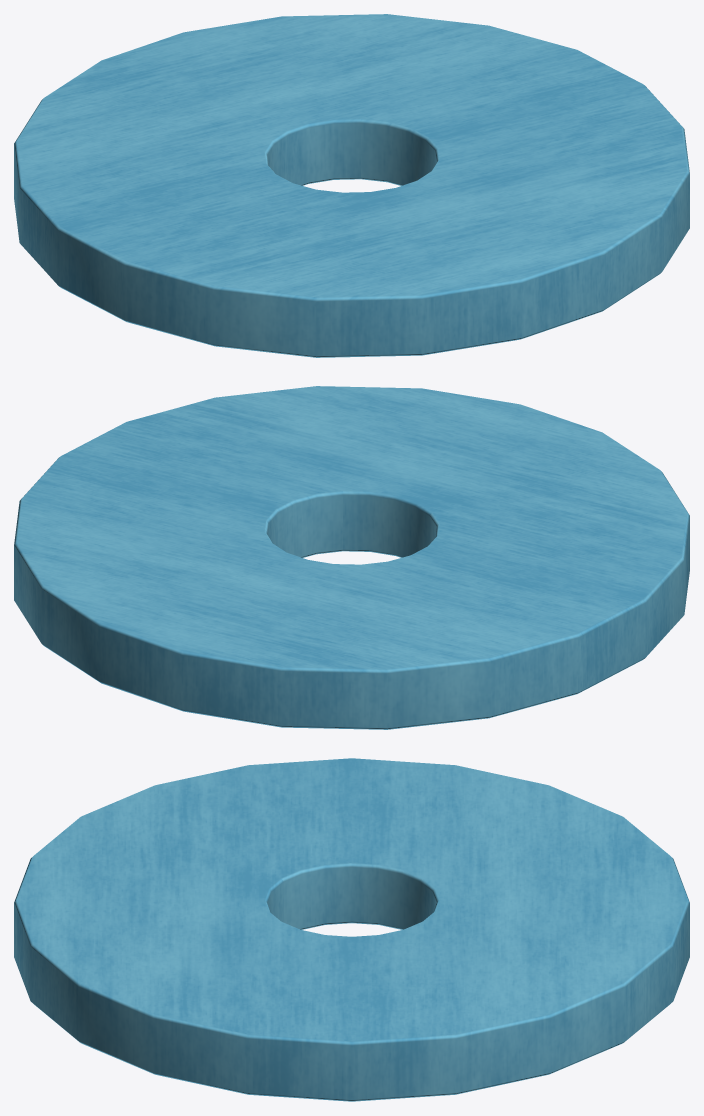
Rendered from stone1.fbx.
3 renders of one model, top to bottom at view 1: azimuth 30°, elevation 25°; view 2: azimuth 150°, elevation 25°; view 3: azimuth 270°, elevation 25°, orthographic.
Visible parts, largest first — view 1: stone; view 2: stone; view 3: stone.
Boxes of the visible parts, x1,y1,x2,y2 form: stone: (14, 14, 689, 357); stone: (14, 386, 689, 729); stone: (14, 758, 689, 1101).
Bounding box in the file's own units: 1.32 × 0.1295 × 1.32.
